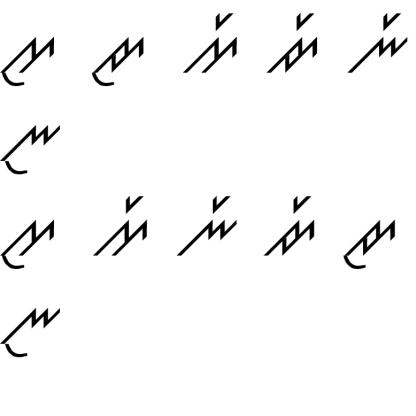jar: (259, 186, 320, 260), (264, 6, 321, 76)
jaw: (82, 30, 153, 89), (338, 211, 400, 274)
nyar: (176, 189, 240, 261), (346, 9, 411, 77)
nyaw: (2, 119, 66, 178), (2, 300, 63, 360)
sar: (176, 13, 241, 82), (93, 190, 152, 261)
saw: (2, 209, 61, 271), (1, 31, 60, 88)
